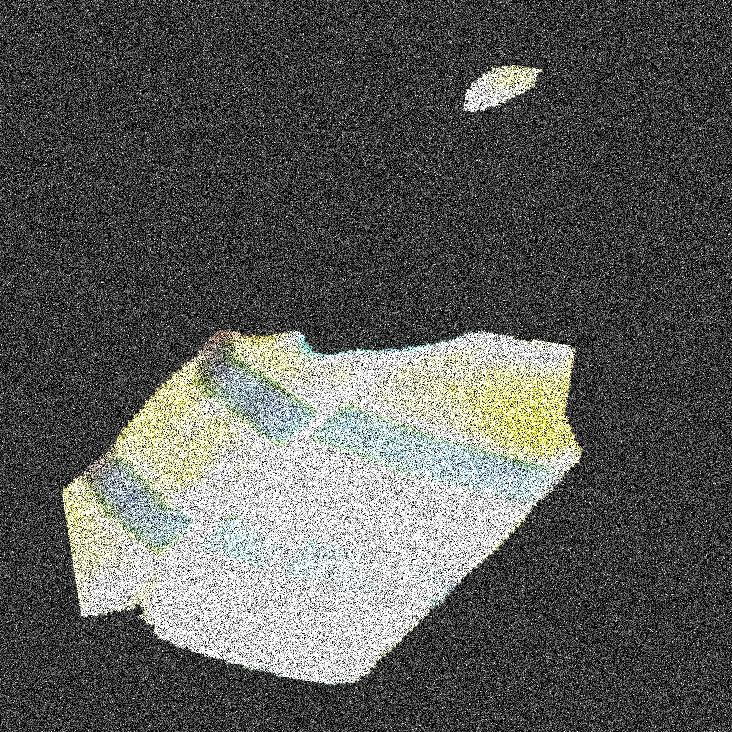Colete: (415, 0, 457, 470)
